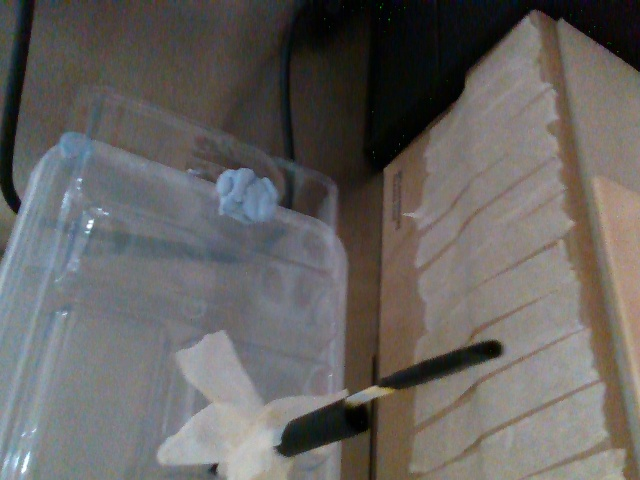test_strip: (346, 340, 503, 406)
